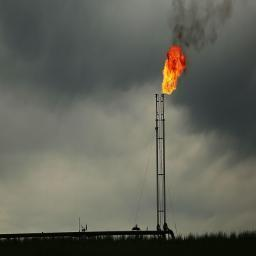fire: (161, 45, 187, 95)
smoke: (168, 0, 234, 51)
